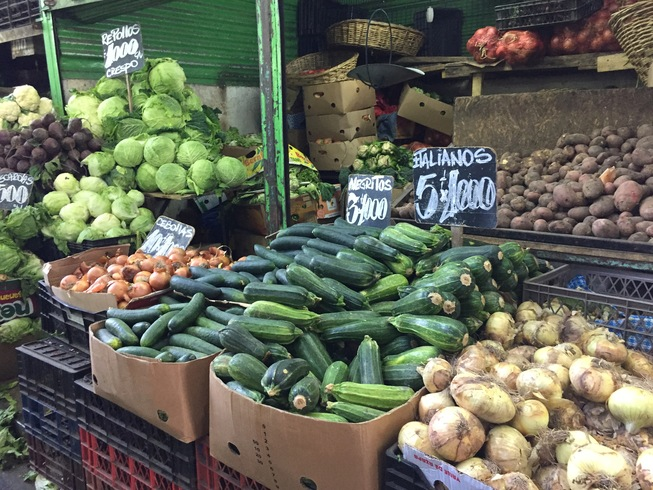precio: (412, 144, 506, 224), (139, 212, 198, 266), (347, 168, 393, 231), (99, 26, 149, 82), (1, 167, 37, 217)
